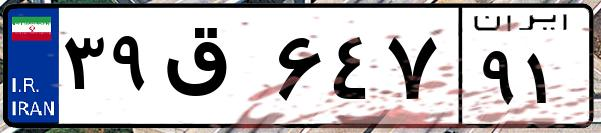1: (525, 38, 570, 115)
3: (57, 26, 110, 100)
4: (330, 28, 385, 110)
6: (270, 28, 330, 110)
7: (385, 28, 445, 110)
9: (475, 38, 525, 113), (110, 28, 158, 98)
ق: (158, 20, 270, 120)
